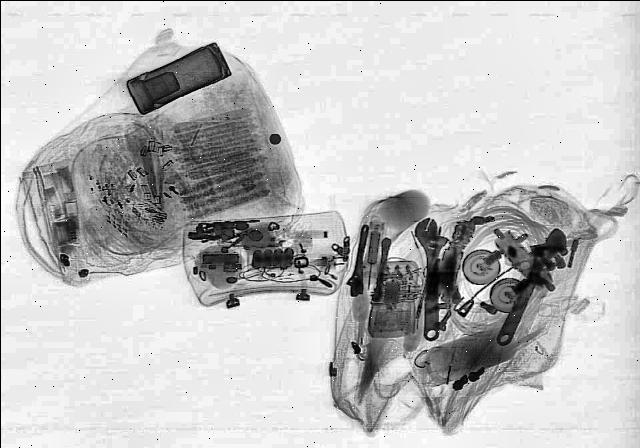Wrench: (484, 224, 578, 350), (414, 218, 446, 342), (345, 224, 373, 298)
